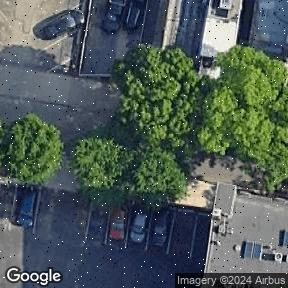vegetation: (0, 112, 64, 184)
